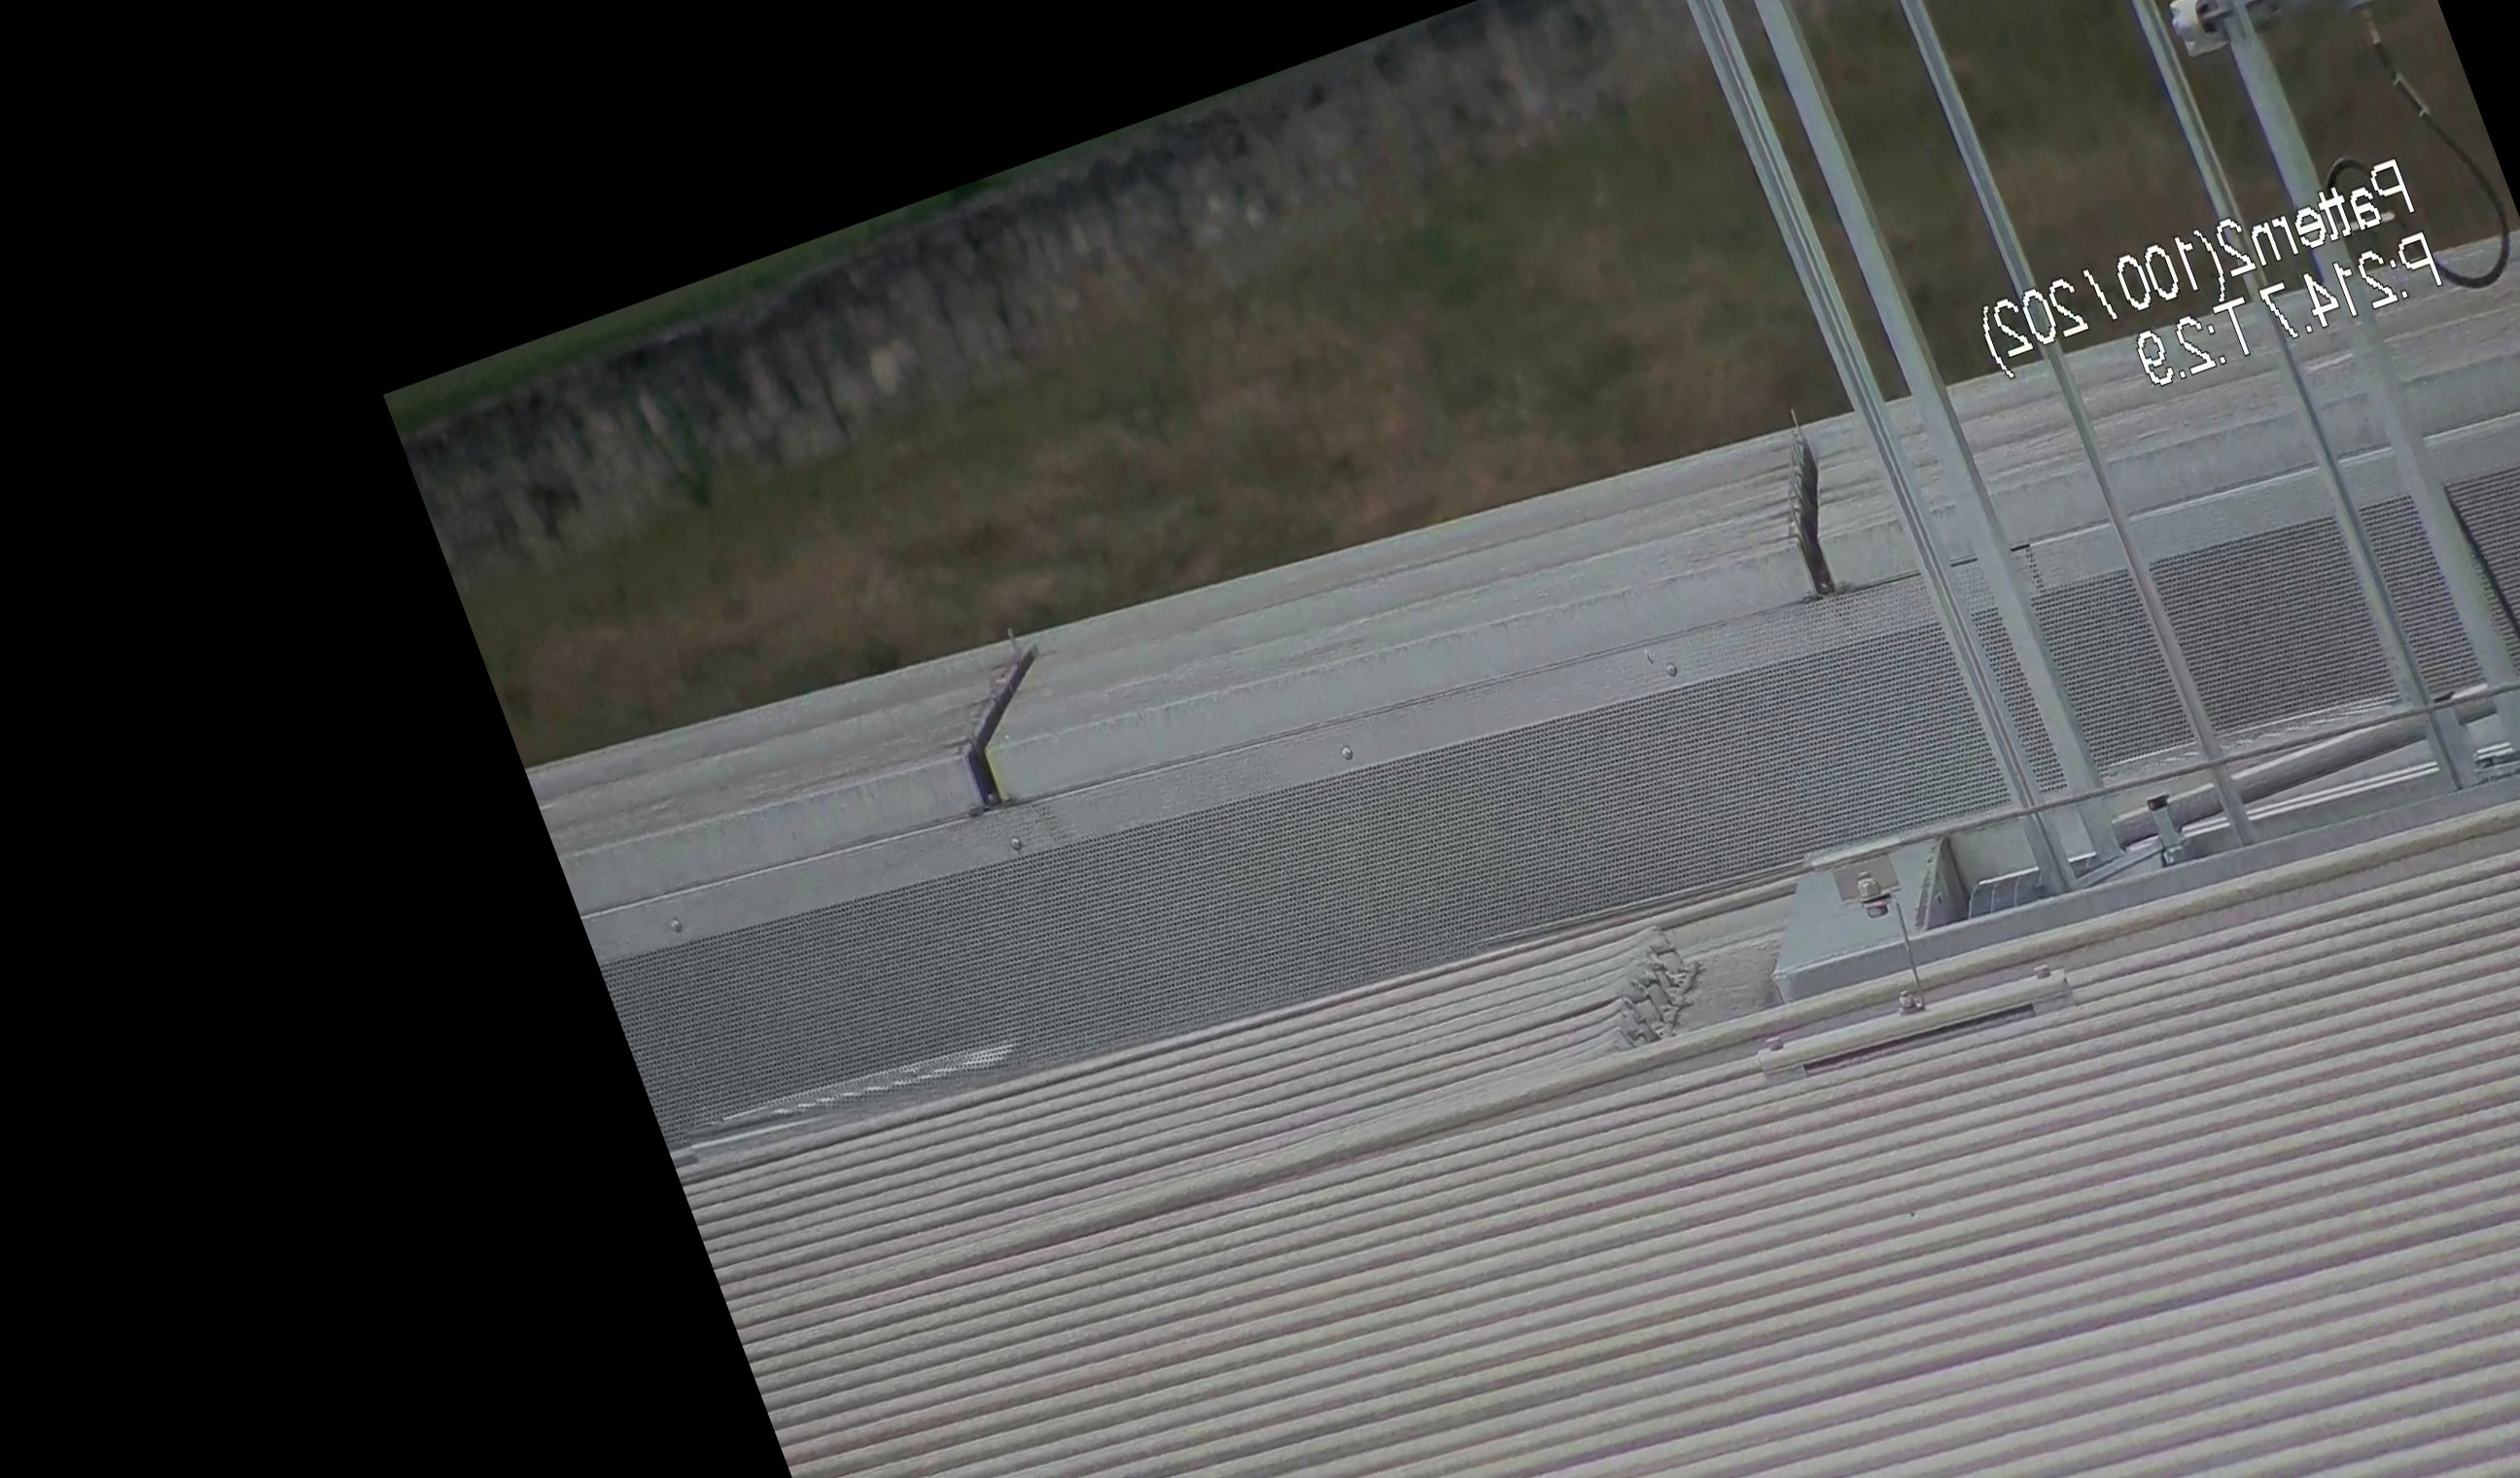Other: (1744, 405, 1889, 607)
